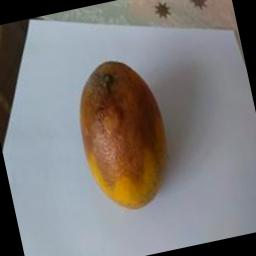Orange Overripe: (62, 54, 208, 220)
